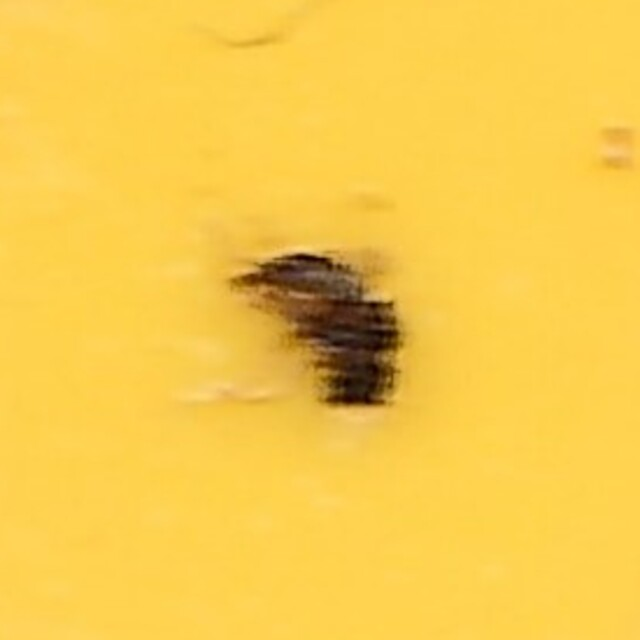Brachycera: (233, 226, 407, 414)
